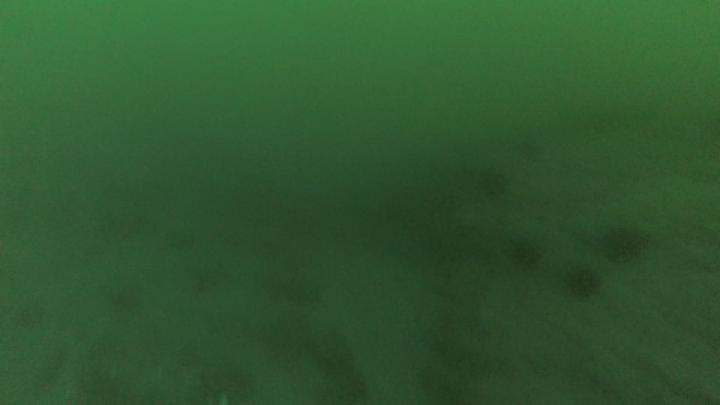echinus: (598, 223, 653, 269), (559, 259, 608, 304)
starfish: (506, 236, 549, 270)
